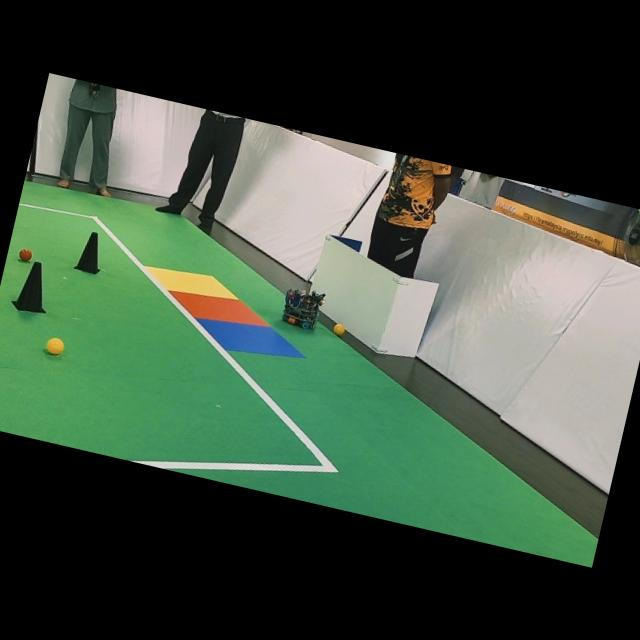ball: (46, 337, 64, 354), (18, 248, 32, 261), (333, 323, 345, 335)
goal: (197, 318, 304, 358), (170, 291, 269, 327), (145, 266, 238, 299)
